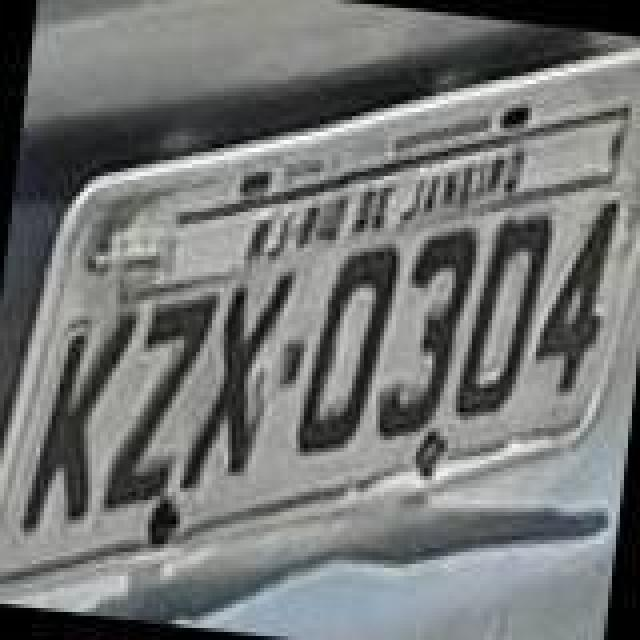3: (368, 220, 480, 452)
4: (528, 190, 624, 402)
K: (14, 298, 138, 550)
O: (292, 236, 404, 468), (452, 206, 556, 426)
X: (178, 260, 294, 508)
Z: (100, 278, 220, 522)
